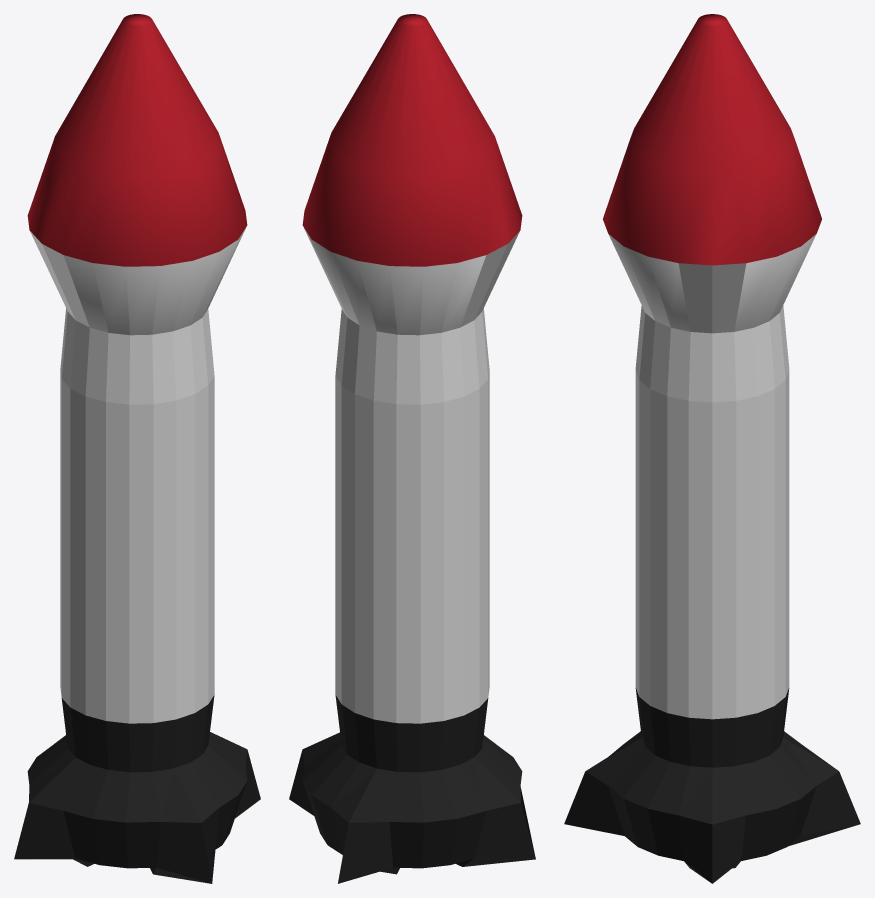
Rendered from Missle.fbx.
3 renders of one model, left to right at view 1: azimuth 30°, elevation 25°; view 2: azimuth 150°, elevation 25°; view 3: azimuth 270°, elevation 25°, orthographic.
Parts seen in each view (by area): view 1: pCylinder1, pCylinder2; view 2: pCylinder1, pCylinder2; view 3: pCylinder1, pCylinder2.
Boxes of the visible parts, x1,y1,x2,y2 form: pCylinder1: (27,14,247,822); pCylinder2: (14,254,260,883); pCylinder1: (302,14,522,822); pCylinder2: (289,232,535,883); pCylinder1: (603,14,821,815); pCylinder2: (564,295,860,883).
Size of the model in its own units: 2.58 by 8.22 by 2.71.
